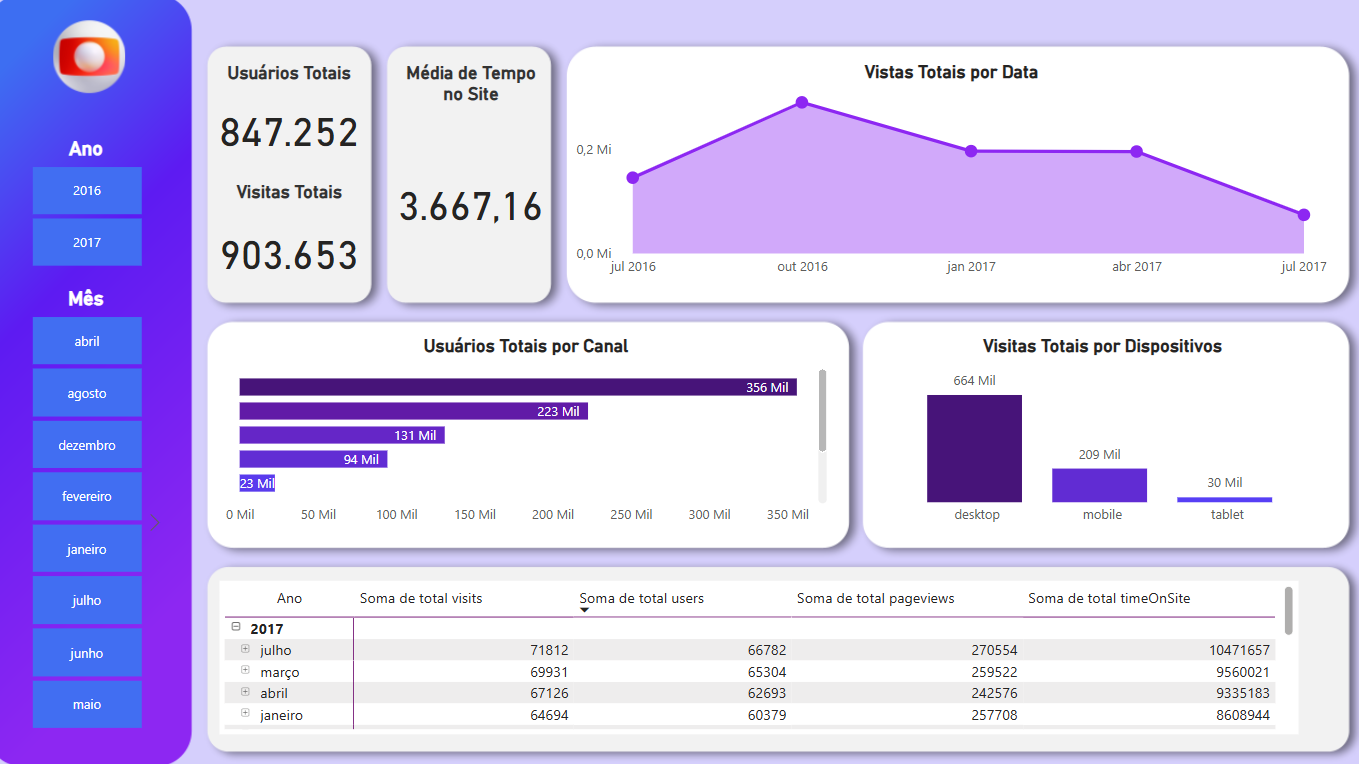

This screenshot's page, from the dashboard's own definition file:
{"tool":"powerbi","page":{"name":"Overview","canvas":[1280,720],"ordinal":0},"visuals":[{"type":"barChart","title":"Usuários Totais por Canal","fields":{"Category":["Fato-Audiencia.channelGrouping"],"Y":["Sum(Fato-Audiencia.total users)"]},"box":[216.7,315,571.7,186.7],"z":0},{"type":"columnChart","title":"Visitas Totais por Dispositivos","fields":{"Y":["Sum(Fato-Audiencia.total visits)"],"Category":["Dim-Device.deviceCategory"]},"box":[825,315,430,186.7],"z":1000},{"type":"card","title":"Usuários Totais","fields":{"Values":["Sum(Fato-Audiencia.total users)"]},"box":[204.9,60.1,153.4,104.3],"z":2000},{"type":"card","title":"Visitas Totais","fields":{"Values":["Sum(Fato-Audiencia.total visits)"]},"box":[204.9,171.8,153.4,111.7],"z":3000},{"type":"card","title":"Média de Tempo no Site","fields":{"Values":["Avg(Fato-Audiencia.total timeOnSite)"]},"box":[376.7,60.1,149.7,223.3],"z":4000},{"type":"slicer","title":"Ano","fields":{"Values":["Dim-Calendario.Ano"]},"box":[16.7,130,151.7,126.7],"z":5000},{"type":"slicer","title":"Mês","fields":{"Values":["Dim-Calendario.Nome do Mês"]},"box":[16.7,270,151.7,418.3],"z":6000},{"type":"lineChart","title":"Vistas Totais por Data","fields":{"Y":["Sum(Fato-Audiencia.total visits)"],"Category":["Dim-Calendario.Date.Variation.Hierarquia de datas.Ano","Dim-Calendario.Date.Variation.Hierarquia de datas.Trimestre","Dim-Calendario.Date.Variation.Hierarquia de datas.Mês","Dim-Calendario.Date.Variation.Hierarquia de datas.Dia"]},"box":[545,60,710,210],"z":7000},{"type":"pivotTable","fields":{"Values":["Sum(Fato-Audiencia.total visits)","Sum(Fato-Audiencia.total users)","Sum(Fato-Audiencia.total pageviews)","Sum(Fato-Audiencia.total timeOnSite)"],"Rows":["Dim-Calendario.Date.Variation.Hierarquia de datas.Ano","Dim-Calendario.Date.Variation.Hierarquia de datas.Mês","Dim-Calendario.Date.Variation.Hierarquia de datas.Dia"]},"box":[216.7,545,1006.7,143.3],"z":8000}]}

Visuals, with their boxes in screenshot pixels (x1, y1, x2, y2), scaled from the page's 1280x720 canvas onto the 1359x764 screenshot:
"Usuários Totais por Canal" barChart: (x1=230, y1=334, x2=837, y2=532)
"Visitas Totais por Dispositivos" columnChart: (x1=876, y1=334, x2=1332, y2=532)
"Usuários Totais" card: (x1=218, y1=64, x2=380, y2=174)
"Visitas Totais" card: (x1=218, y1=182, x2=380, y2=301)
"Média de Tempo no Site" card: (x1=400, y1=64, x2=559, y2=301)
"Ano" slicer: (x1=18, y1=138, x2=179, y2=272)
"Mês" slicer: (x1=18, y1=286, x2=179, y2=730)
"Vistas Totais por Data" lineChart: (x1=579, y1=64, x2=1332, y2=286)
pivotTable - Sum(Fato-Audiencia.total visits) x Sum(Fato-Audiencia.total users): (x1=230, y1=578, x2=1299, y2=730)
